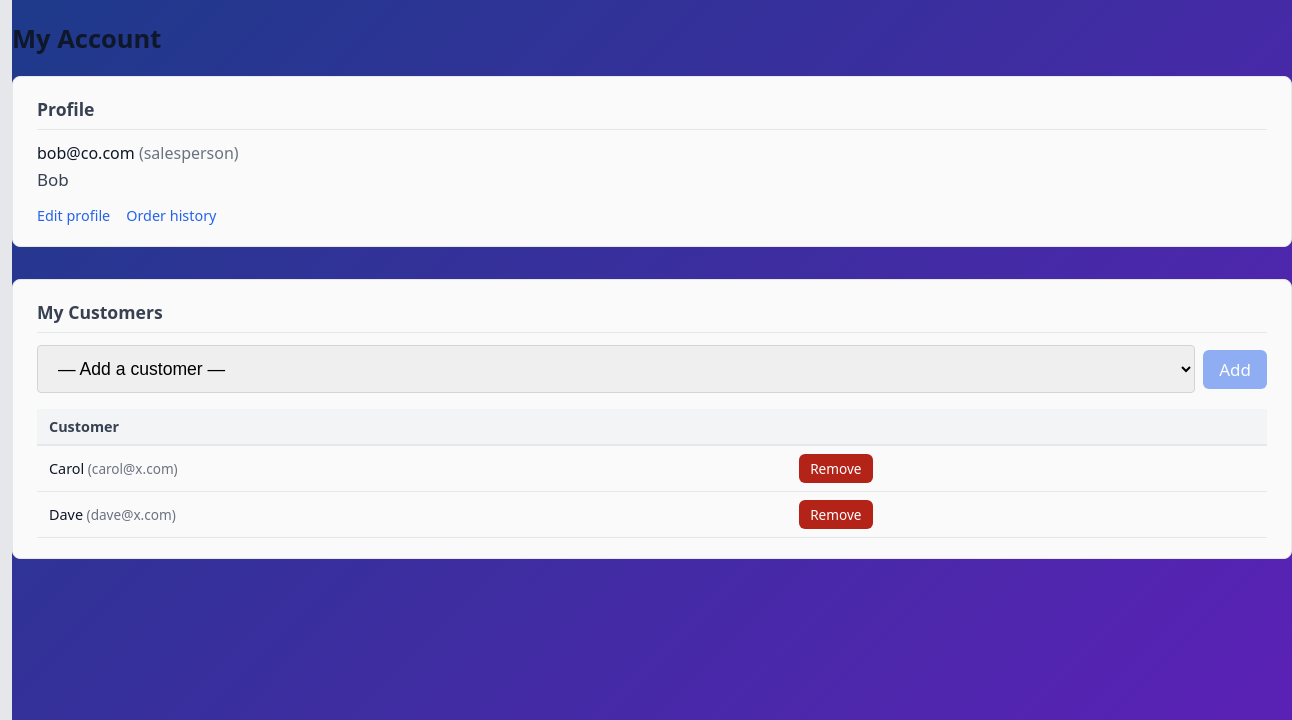
Test: AccountView › salesperson role › shows error when adding fails
Select "Eve (eve@x.com)" in the dropdown with class "customer-add-select": x=616, y=369 [37,345,1195,393]
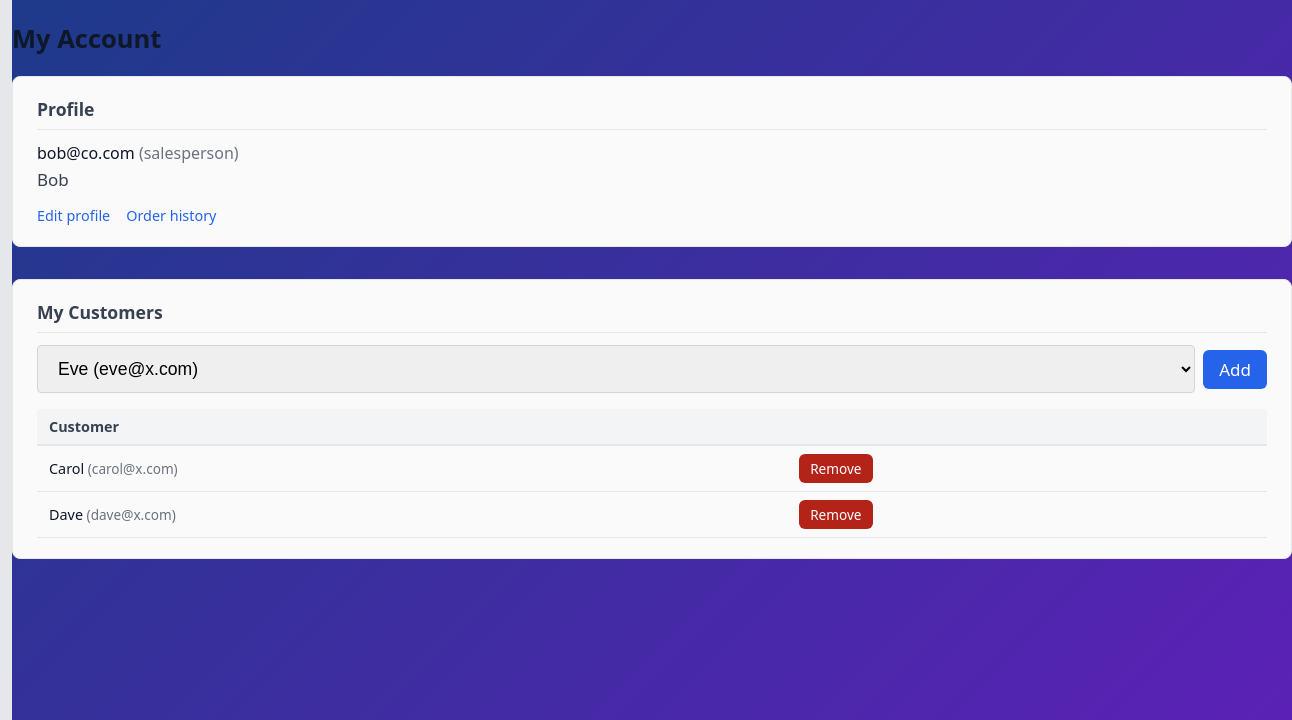
Click the button with class "add-btn": x=1235, y=369 [1203,350,1267,389]
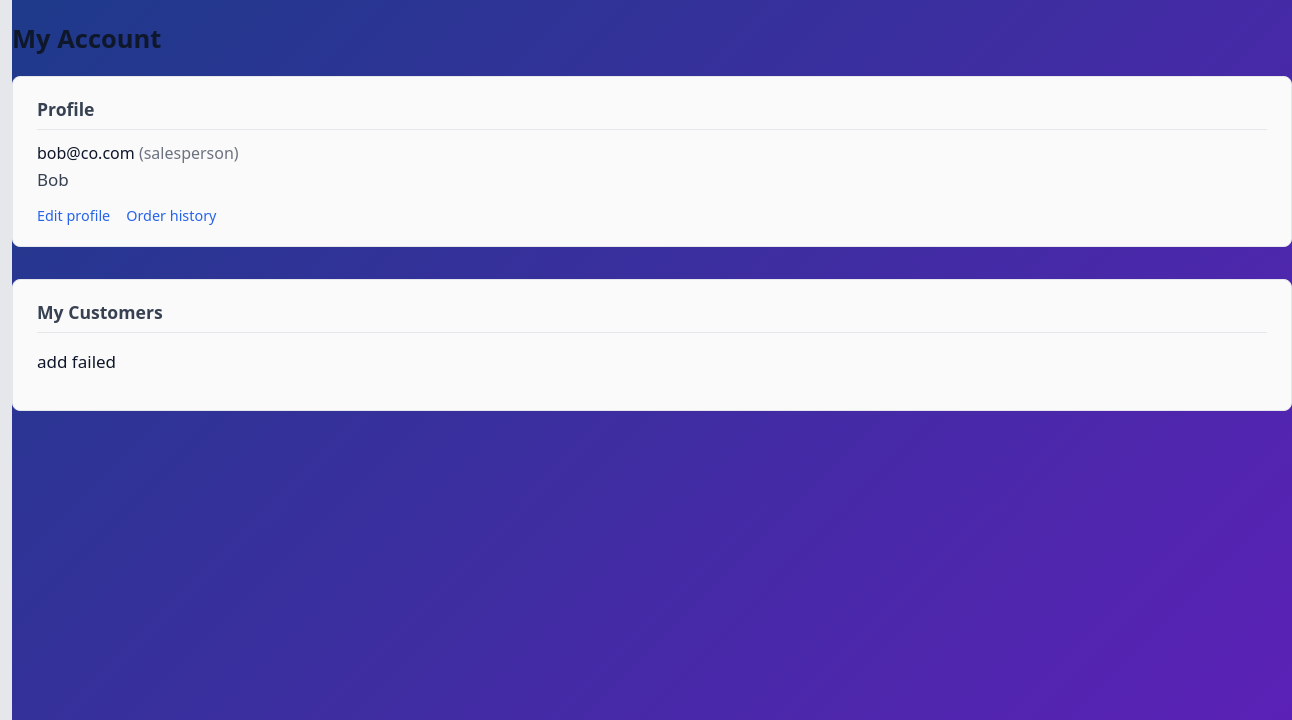
Now the message "add failed" is shown, box [37,350,116,373]
